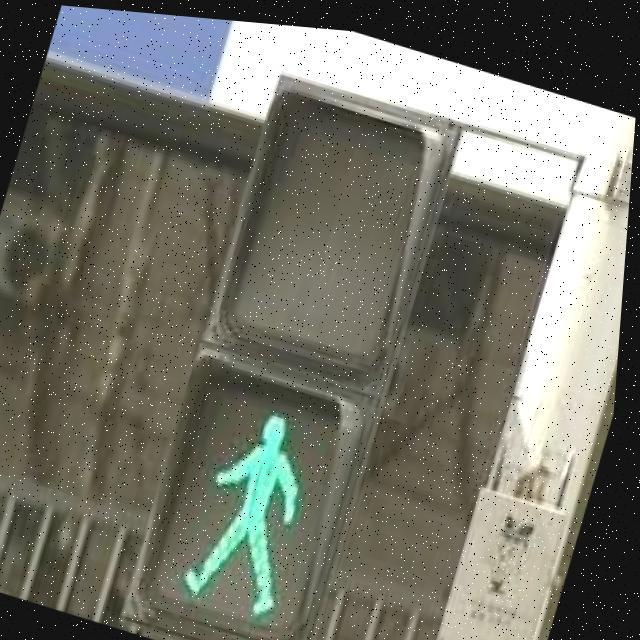green_light: (159, 380, 346, 630)
